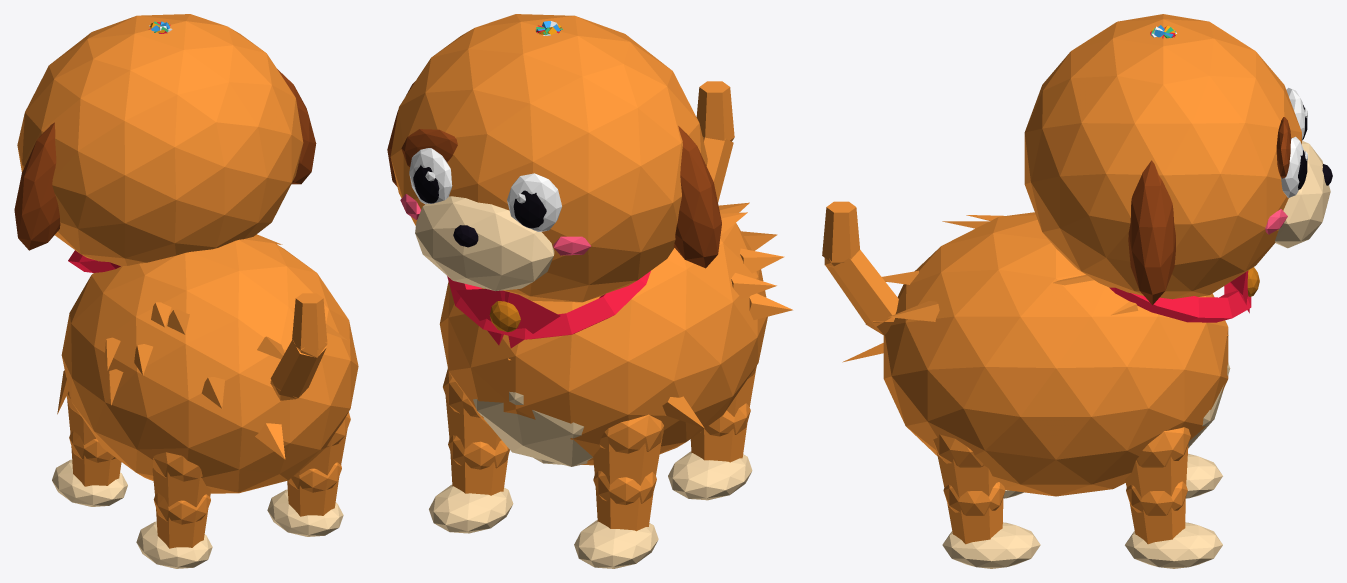
File: cupcake_pup.obj
The picture shows the model from 3 angles, left to right: view 1: azimuth 30°, elevation 25°; view 2: azimuth 150°, elevation 25°; view 3: azimuth 270°, elevation 25°; orthographic projection. The views are drawn at different scales.
Parts seen in each view (by area): view 1: Head_2_m4, Body_1_m1, Head_2_m23, Leg3Lo_8_m18, Leg3Up_7_m17, Leg4Lo_10_m21, Leg1Lo_4_m12, Tail2_12_m26, Tail1_11_m25, Leg3Lo_8_m19, Leg4Lo_10_m22, Leg1Lo_4_m13 (+4 smaller); view 2: Head_2_m4, Body_1_m1, Head_2_m5, Head_2_m23, Body_1_m31, Body_1_m2, Leg1Up_3_m11, Leg2Lo_6_m16, Leg3Lo_8_m19, Leg1Lo_4_m13, Leg1Lo_4_m12, Head_2_m7 (+10 smaller); view 3: Body_1_m1, Head_2_m4, Head_2_m23, Tail1_11_m25, Leg2Up_5_m14, Body_1_m31, Head_2_m5, Leg4Lo_10_m22, Leg2Lo_6_m16, Leg2Lo_6_m15, Leg4Lo_10_m21, Leg4Up_9_m20 (+4 smaller).
Part boxes in pixels (box(x1,y1,x2,y2)): Head_2_m4: box(17, 14, 303, 266); Body_1_m1: box(57, 236, 358, 493); Head_2_m23: box(14, 69, 316, 250); Leg3Lo_8_m18: box(153, 493, 210, 548); Leg3Up_7_m17: box(152, 452, 211, 507); Leg4Lo_10_m21: box(287, 462, 341, 516); Leg1Lo_4_m12: box(69, 431, 121, 486); Tail2_12_m26: box(292, 293, 327, 357); Tail1_11_m25: box(270, 339, 326, 400); Leg3Lo_8_m19: box(136, 521, 212, 568); Leg4Lo_10_m22: box(267, 489, 343, 536); Leg1Lo_4_m13: box(52, 459, 127, 506); Head_2_m4: box(390, 14, 707, 302); Body_1_m1: box(439, 212, 792, 465); Head_2_m5: box(415, 196, 554, 290); Head_2_m23: box(387, 81, 721, 268); Body_1_m31: box(447, 271, 650, 348); Body_1_m2: box(473, 391, 592, 466); Leg1Up_3_m11: box(593, 414, 663, 485); Leg2Lo_6_m16: box(429, 484, 513, 533); Leg3Lo_8_m19: box(668, 451, 752, 500); Leg1Lo_4_m13: box(574, 520, 658, 568); Leg1Lo_4_m12: box(593, 471, 656, 531); Head_2_m7: box(409, 21, 561, 231); Body_1_m1: box(842, 212, 1228, 496); Head_2_m4: box(1024, 14, 1301, 299); Head_2_m23: box(1128, 117, 1291, 305); Tail1_11_m25: box(826, 249, 898, 335); Leg2Up_5_m14: box(1125, 427, 1190, 497); Body_1_m31: box(1109, 271, 1251, 322); Head_2_m5: box(1275, 140, 1330, 248); Leg4Lo_10_m22: box(942, 522, 1040, 568); Leg2Lo_6_m16: box(1125, 522, 1222, 568); Leg2Lo_6_m15: box(1126, 481, 1187, 544); Leg4Lo_10_m21: box(943, 482, 1005, 544); Leg4Up_9_m20: box(933, 434, 998, 497).
Bounding box in the file's own units: 1.71 × 2.58 × 2.38.
